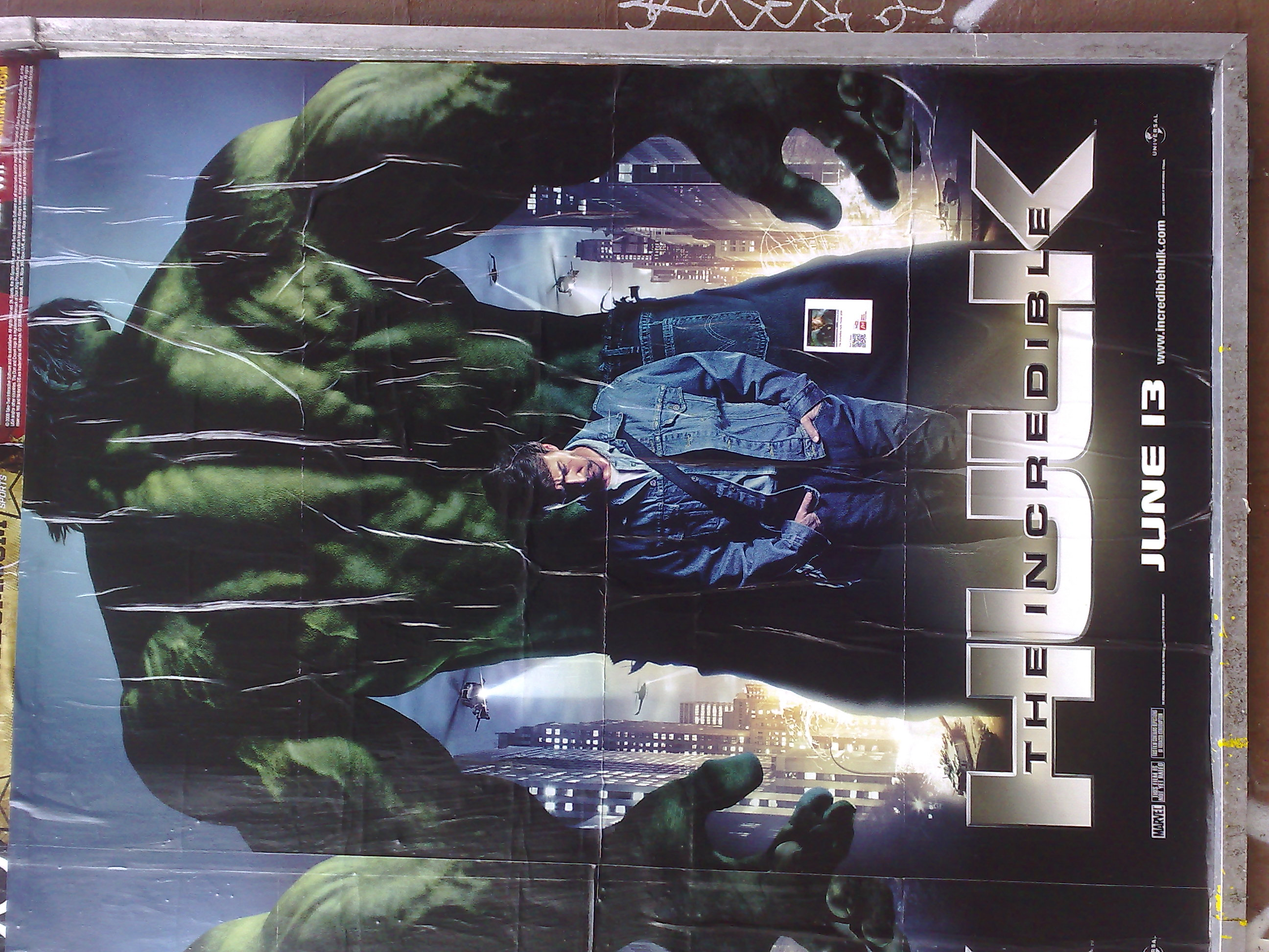QR-CODE: (852, 334, 866, 347)
